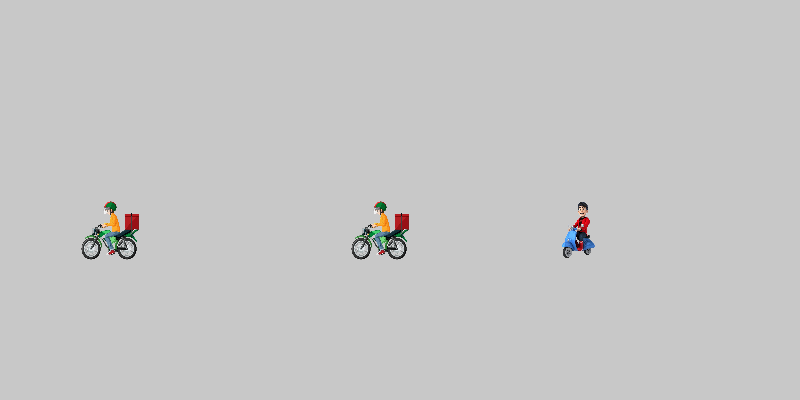helmet: (80, 200, 140, 260), (350, 200, 410, 260)
no_helmet: (550, 200, 610, 260)
